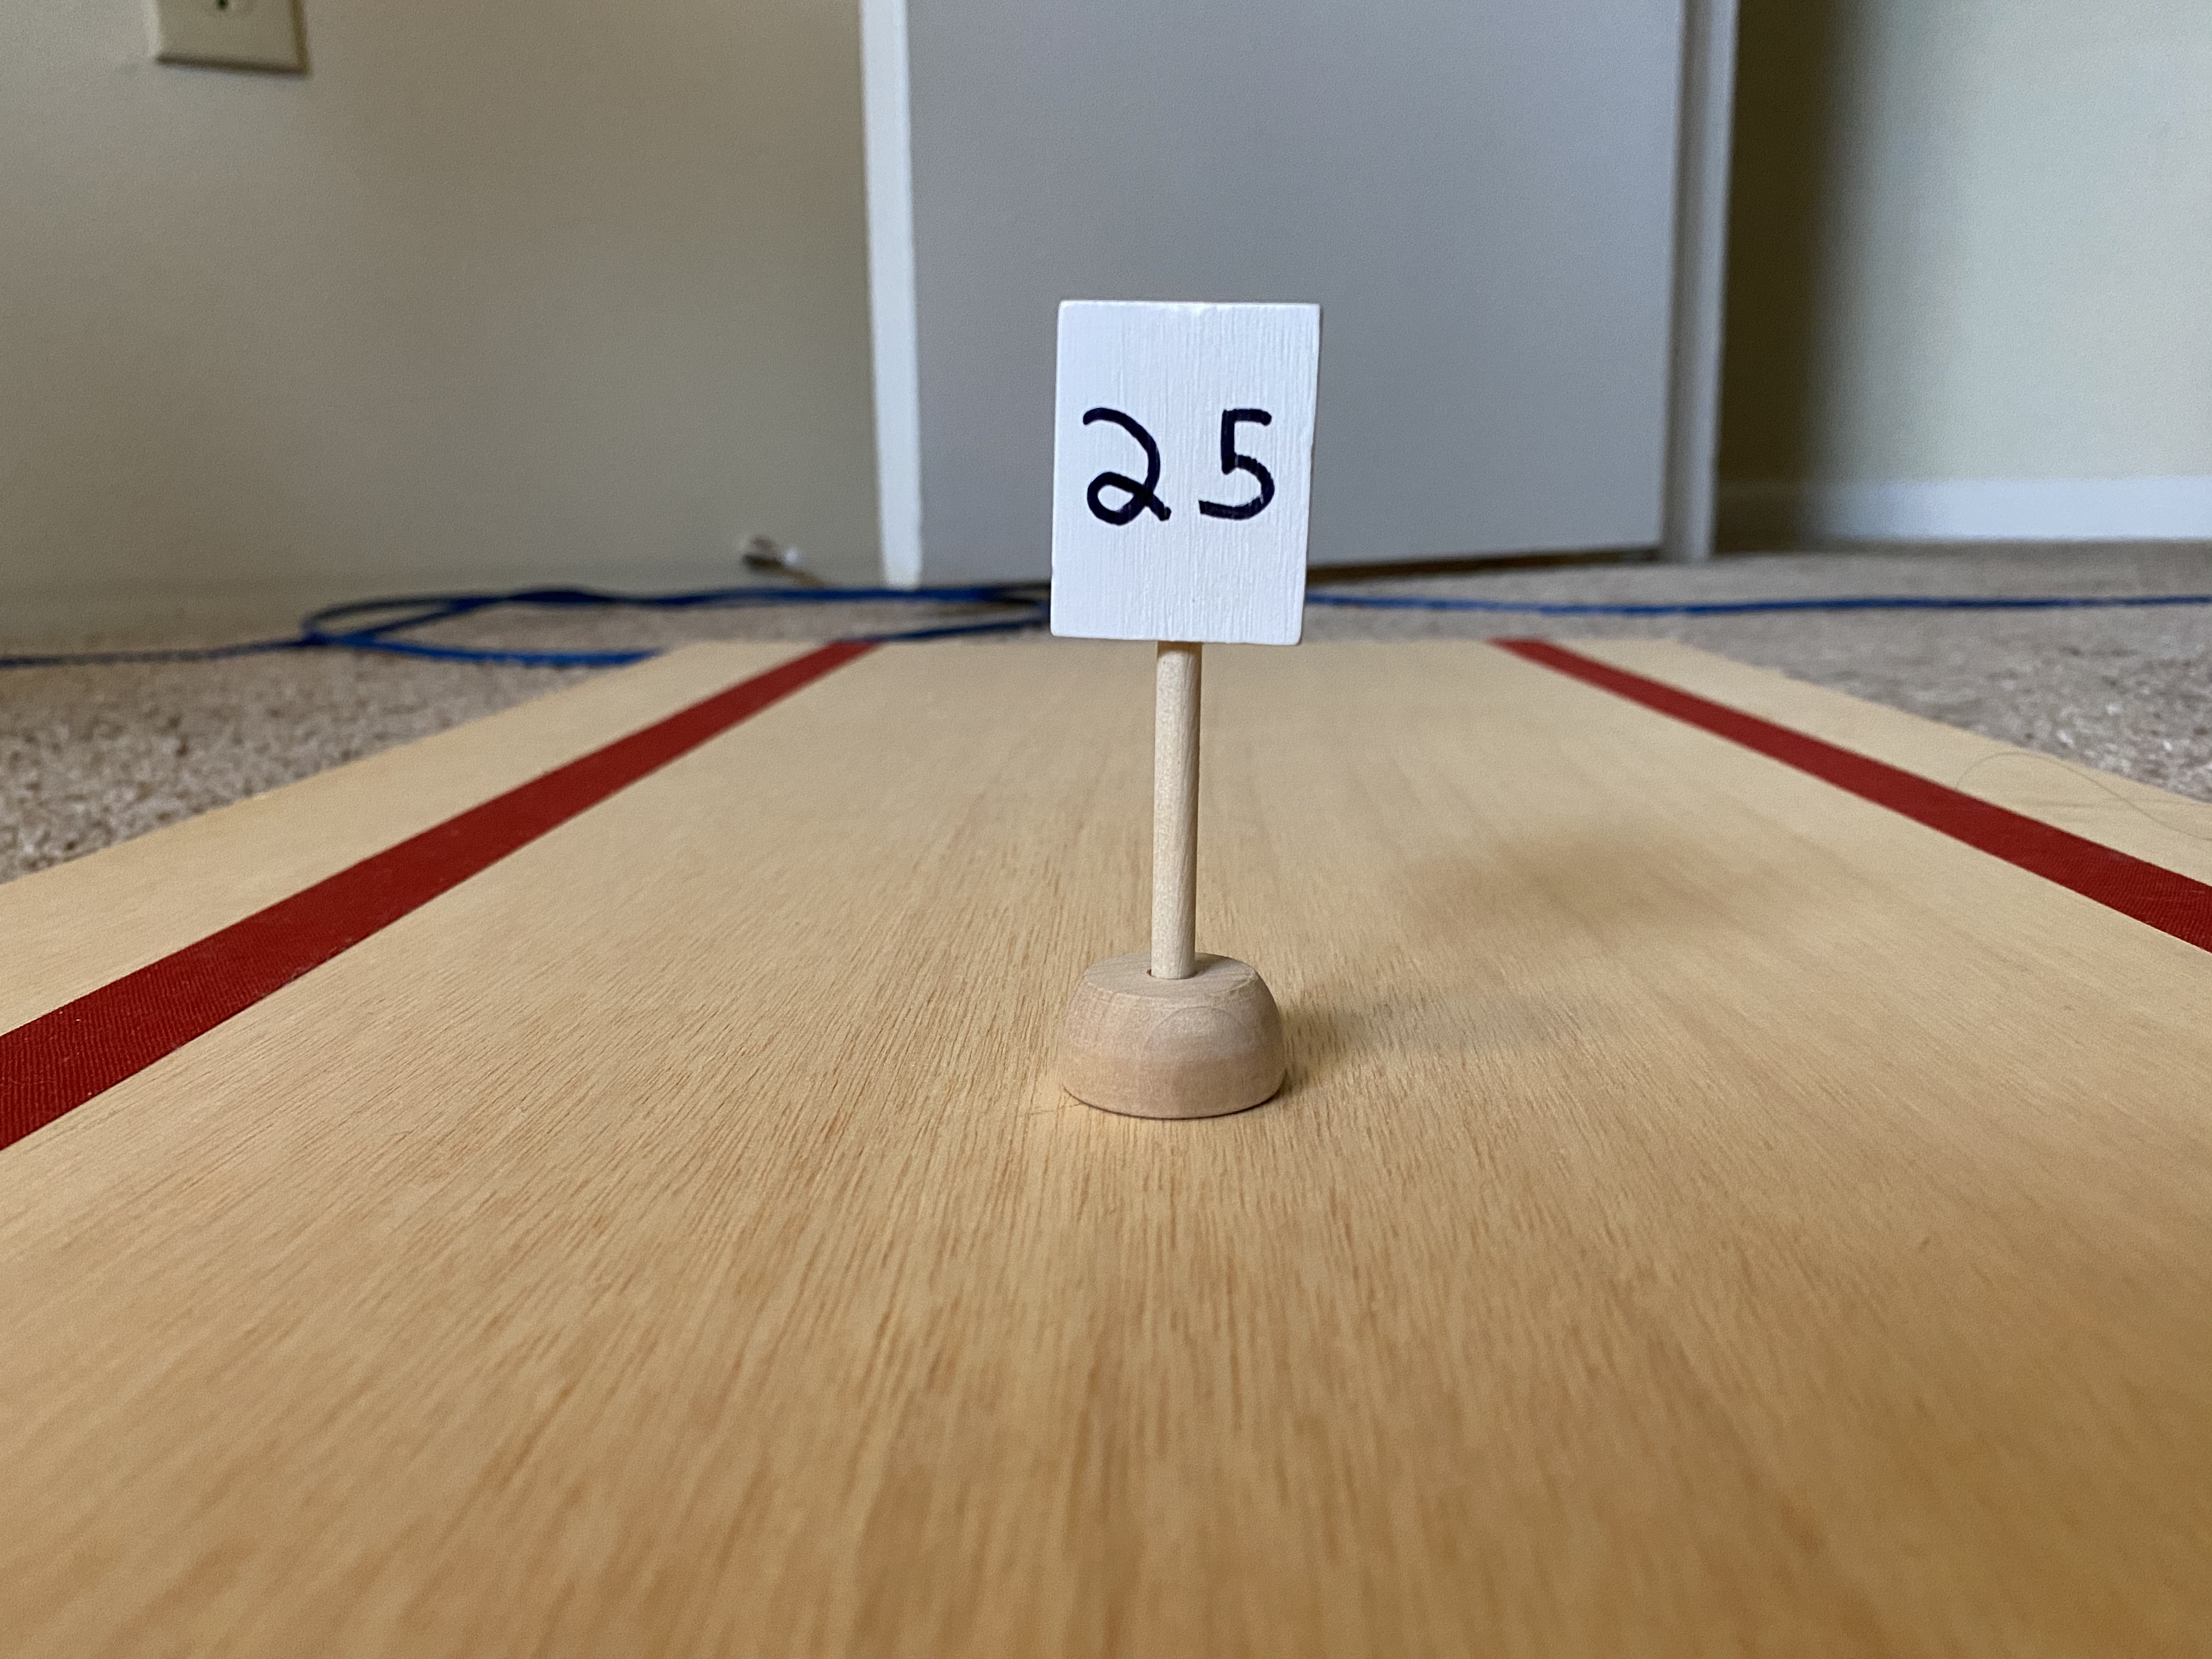Speed Limit 25: (1028, 286, 1348, 660)
